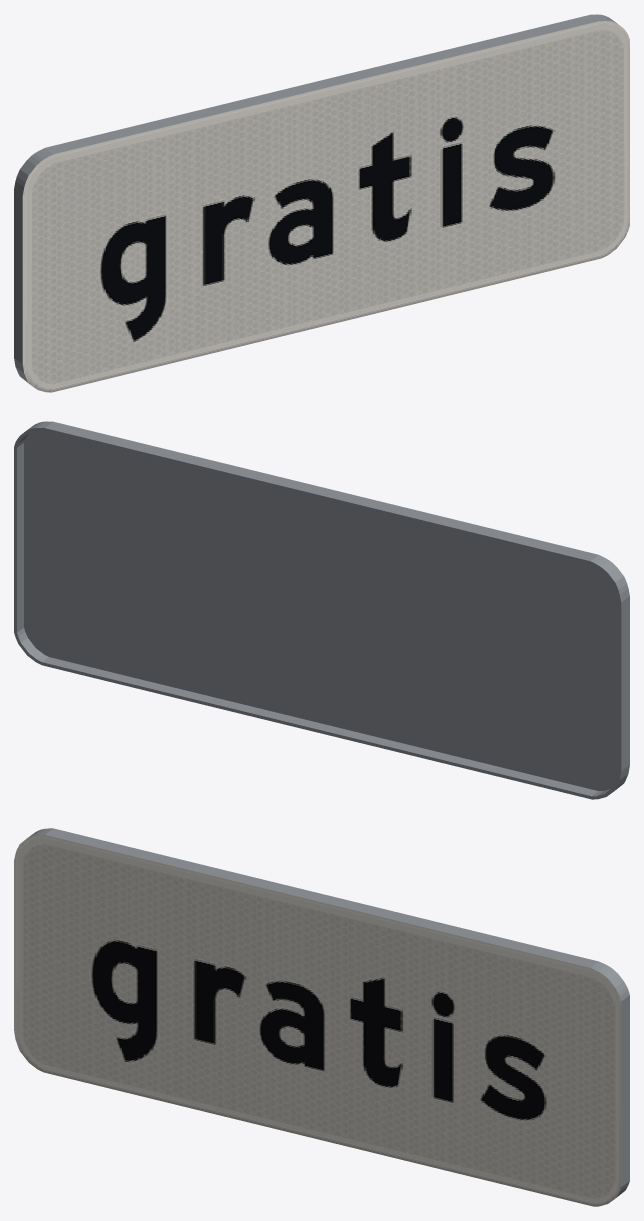
3 renders of one model, top to bottom at view 1: azimuth 30°, elevation 25°; view 2: azimuth 150°, elevation 25°; view 3: azimuth 330°, elevation 25°, orthographic.
Parts seen in each view (by area): view 1: cat_589662663909f260; view 2: cat_589662663909f260; view 3: cat_589662663909f260.
Boxes of the visible parts, x1,y1,x2,y2 form: cat_589662663909f260: [14, 14, 629, 392]; cat_589662663909f260: [14, 421, 629, 799]; cat_589662663909f260: [14, 828, 629, 1206].
Size of the model in its own units: 0.6 by 0.015 by 0.2246.
Materials: 2 (1 with a texture image).
